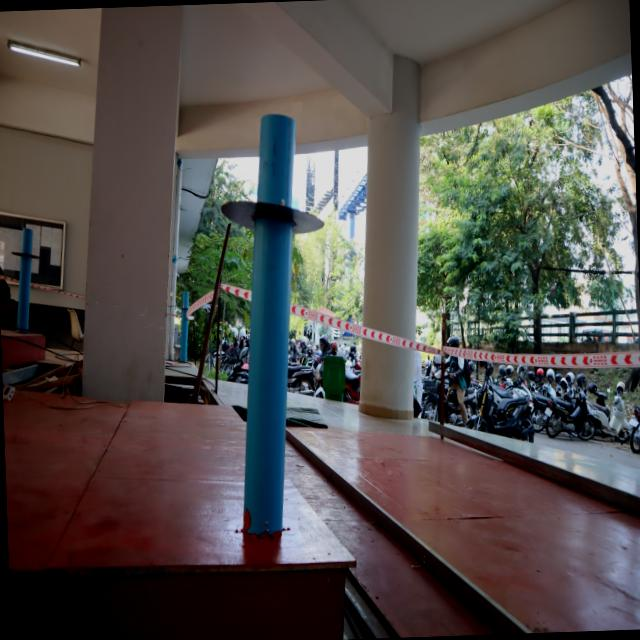pole: (206, 101, 332, 341), (7, 228, 46, 287)
